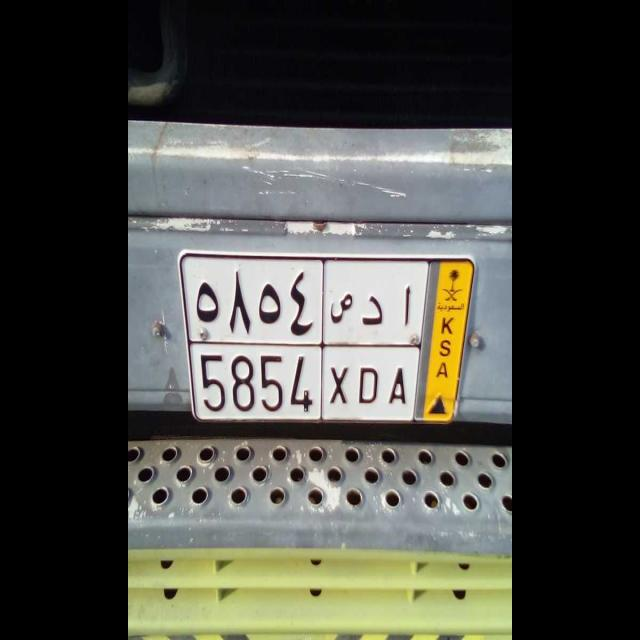license_plate: (191, 341, 414, 421)
